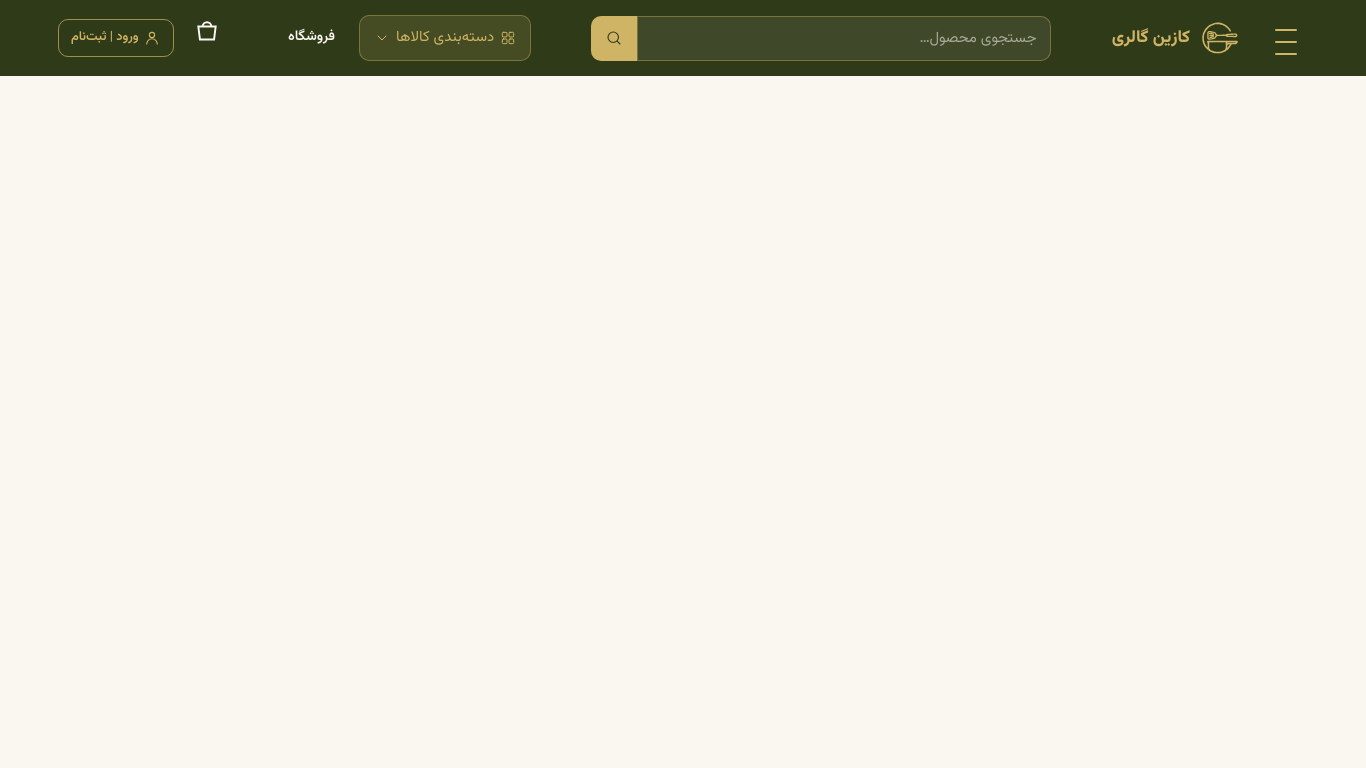
it: mini-cart prices (item 3) › shows unit price, line total and the products subtotal -- for guests too
Click the button with class "cart-link" at (207, 38), box [188, 13, 226, 63]
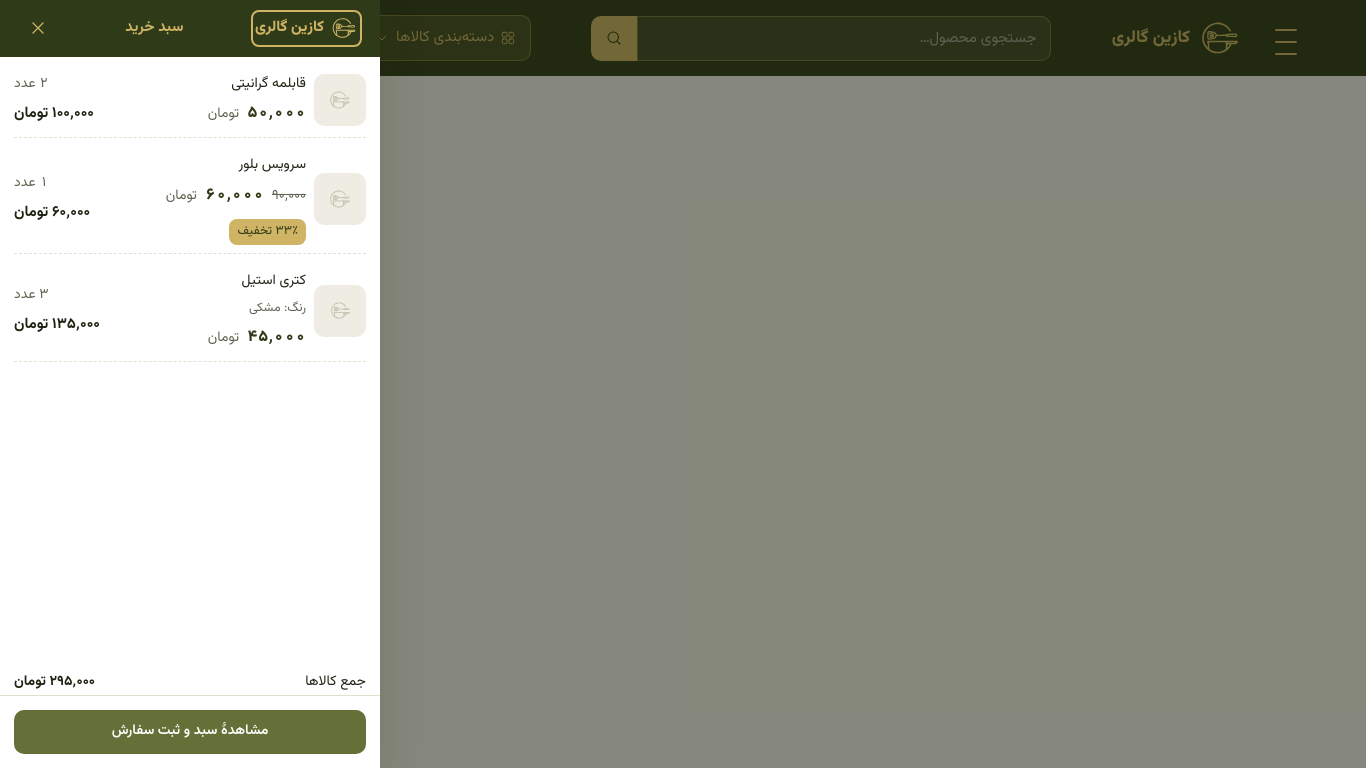
Now the dialog with class "minicart" is shown
Now the number of list items is 3, box [14, 70, 366, 138]; [14, 152, 366, 254]; [14, 268, 366, 362]
Now the list item "قابلمه گرانیتی ۵۰٬۰۰۰ تومان ۲ عدد ۱۰۰٬۰۰۰ تومان" is shown, box [14, 70, 366, 138]
